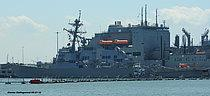MIL_Ship: (6, 8, 210, 79)
